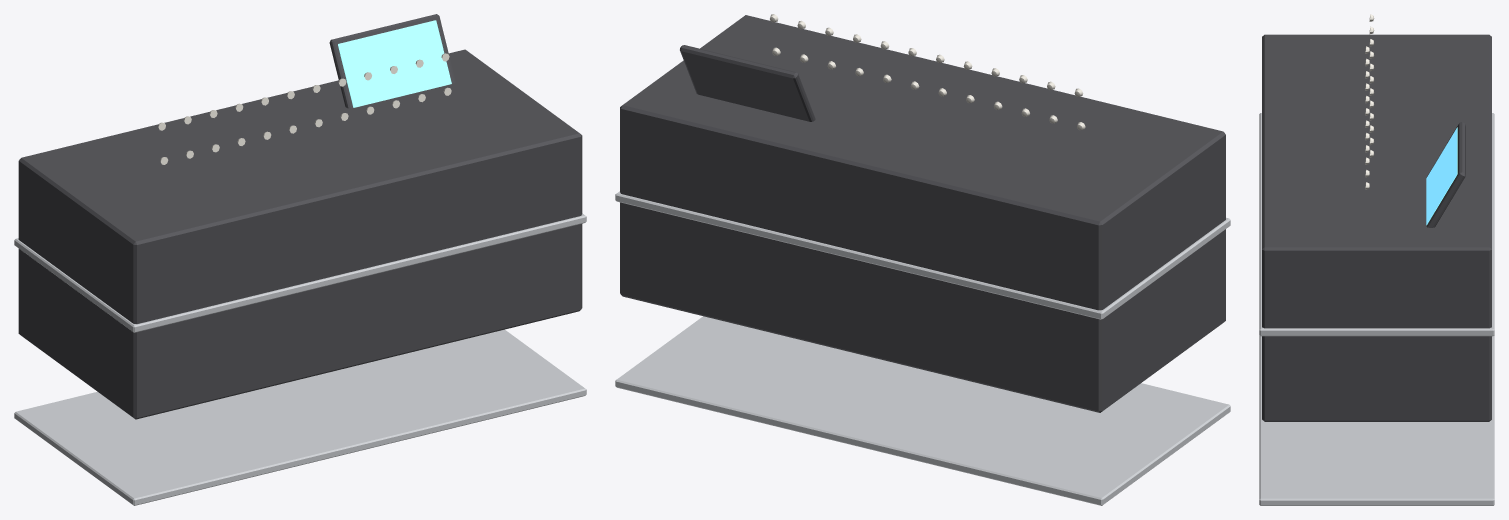
The model's file is live-music-venue-and-festival-stage-front-of-house-mix-ab9b61a6.glb.
The picture shows the model from 3 angles, left to right: view 1: azimuth 30°, elevation 25°; view 2: azimuth 150°, elevation 25°; view 3: azimuth 270°, elevation 25°; orthographic projection. The views are drawn at different scales.
Parts seen in each view (by area): view 1: front-of-house-mixing-desk; view 2: front-of-house-mixing-desk; view 3: front-of-house-mixing-desk.
Boxes of the visible parts, x1,y1,x2,y2 form: front-of-house-mixing-desk: (14,14,586,505); front-of-house-mixing-desk: (615,14,1230,505); front-of-house-mixing-desk: (1259,14,1494,505).
Bounding box in the file's own units: 1.92 × 1.3 × 0.8799.
